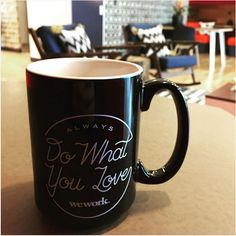wework: (68, 196, 108, 208)
